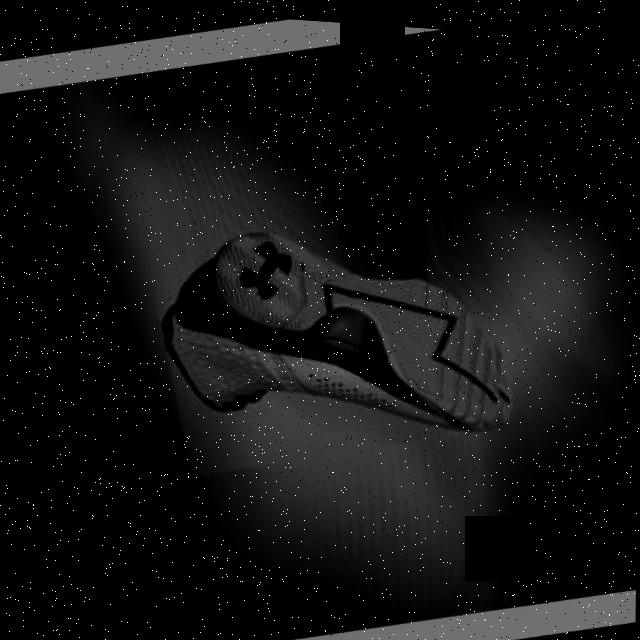shoe: (144, 177, 521, 490)
